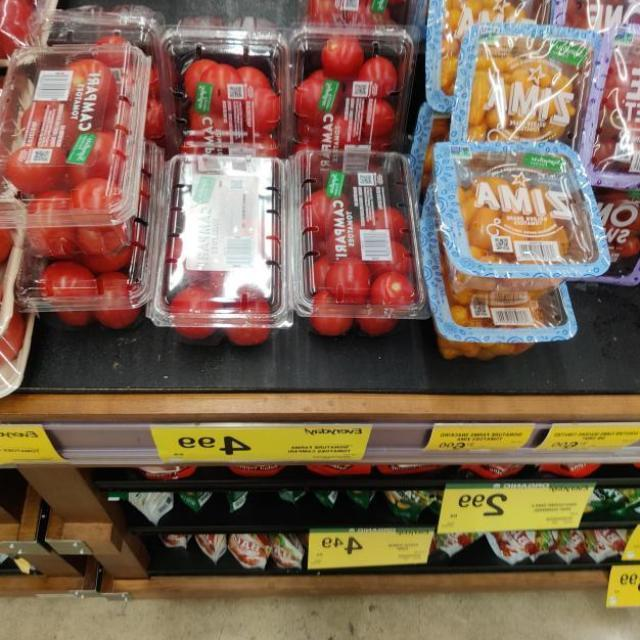Tomatoes: (0, 38, 148, 258), (145, 154, 295, 347), (429, 145, 601, 301), (292, 143, 422, 336), (439, 26, 615, 167), (288, 18, 421, 161), (164, 21, 289, 161)
